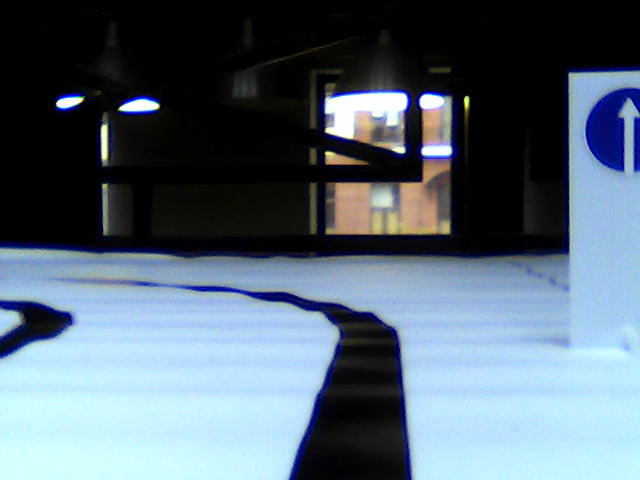forw: (586, 83, 640, 176)
